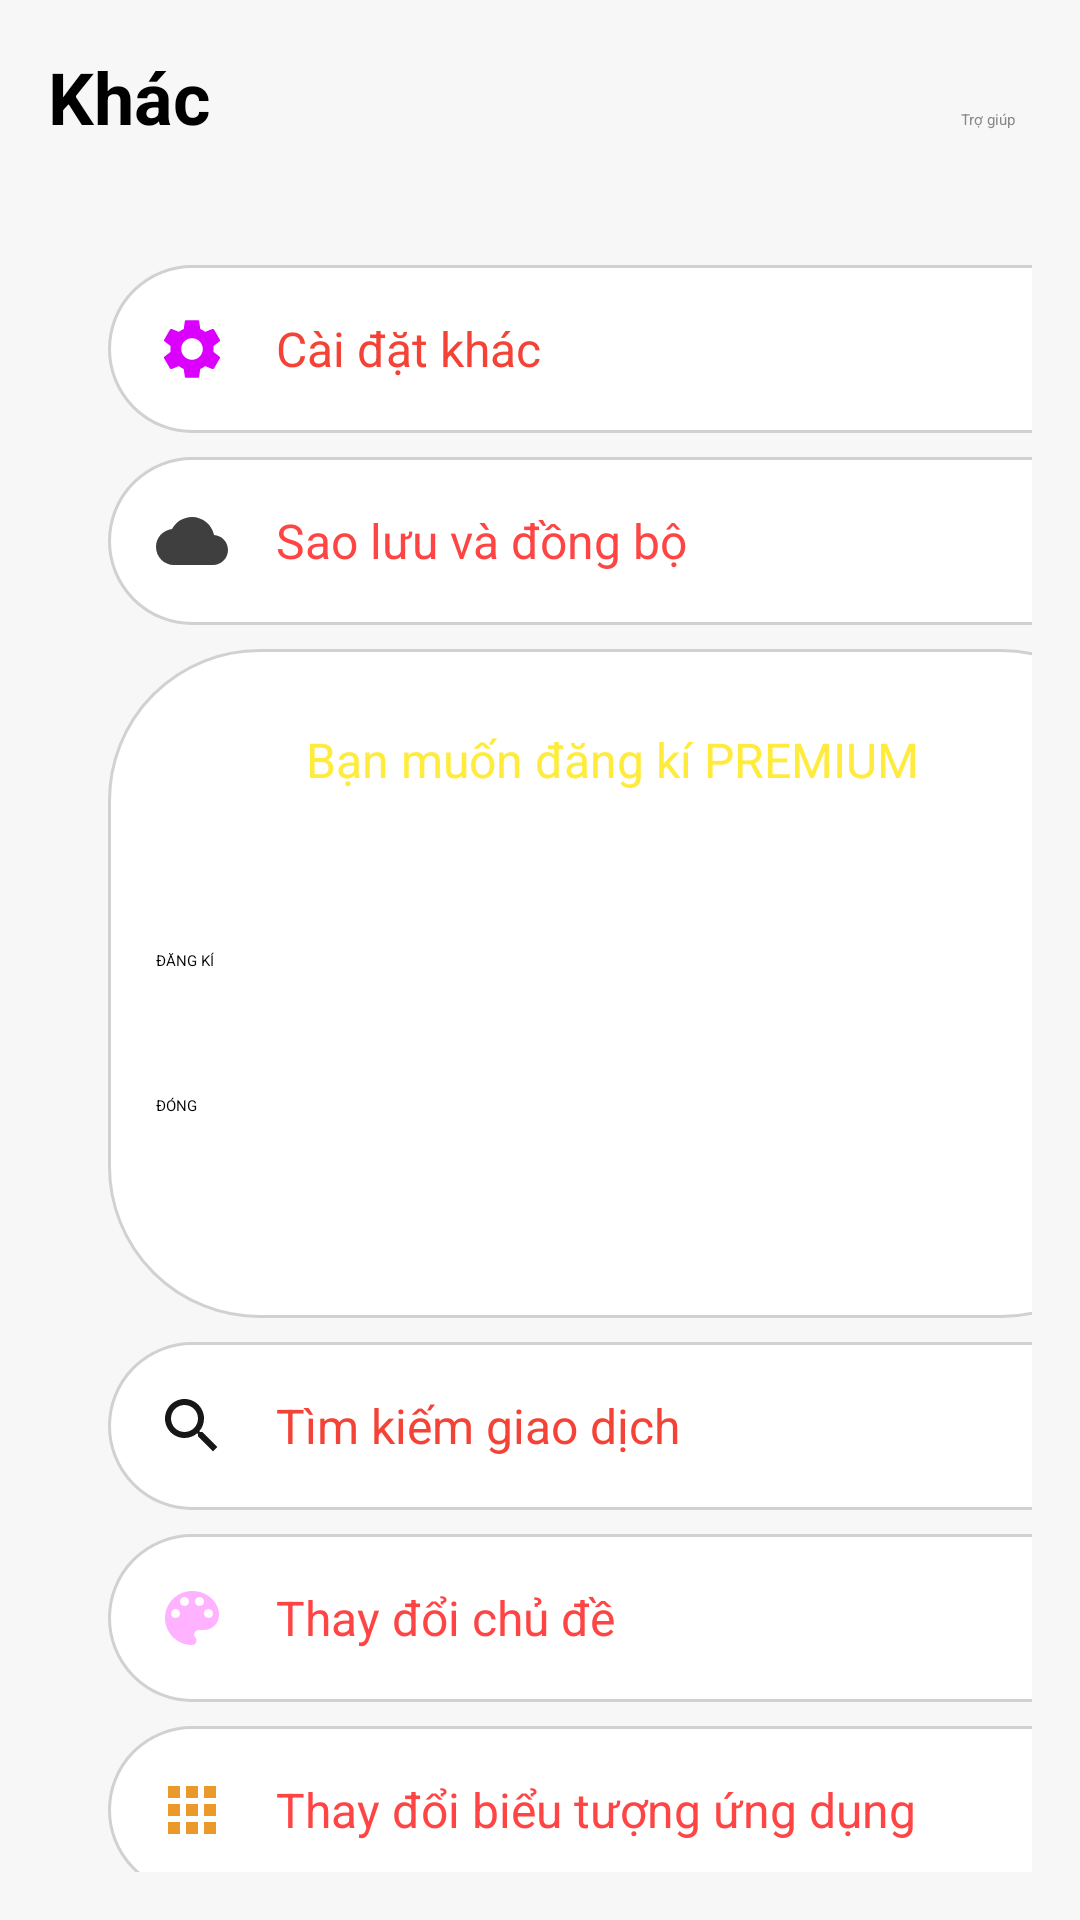

Icons on this 1080×1920 Android screen, each with its box as (x1, y1, x2, y2):
cloud: (156, 517, 228, 565)
search: (165, 1399, 217, 1451)
setting: (164, 320, 220, 378)
